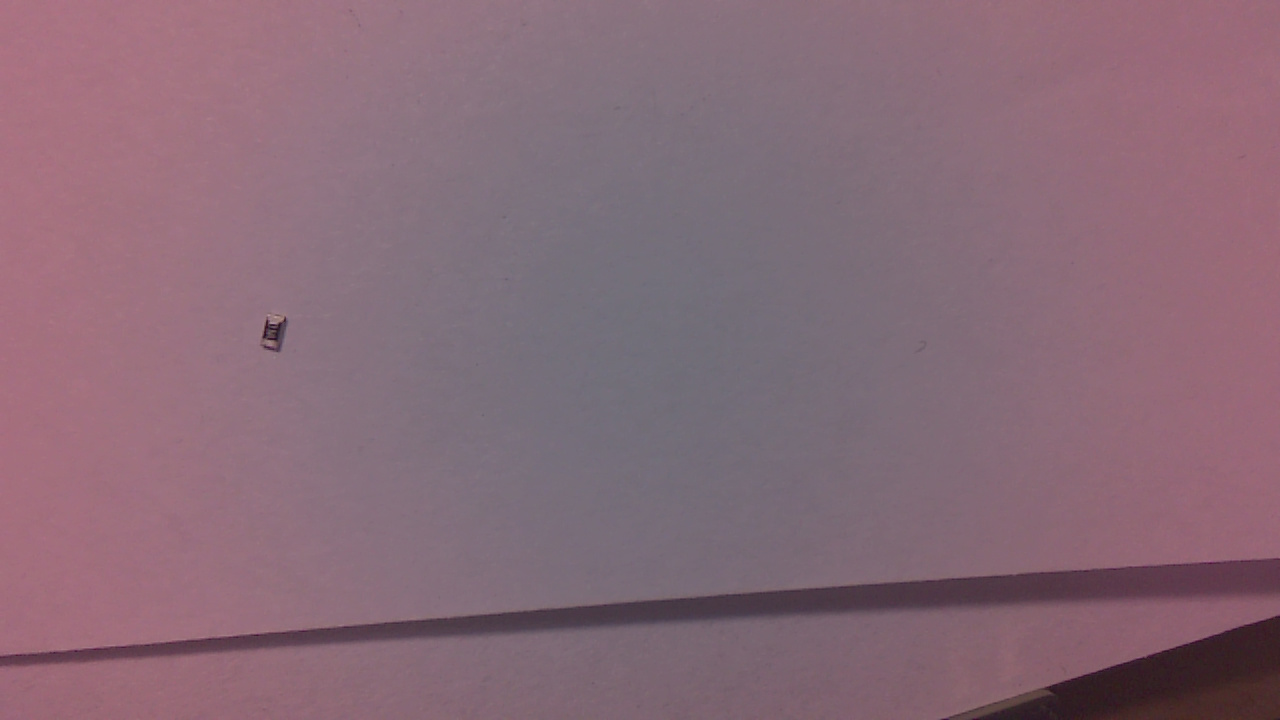Resistor: (263, 318, 292, 359)
